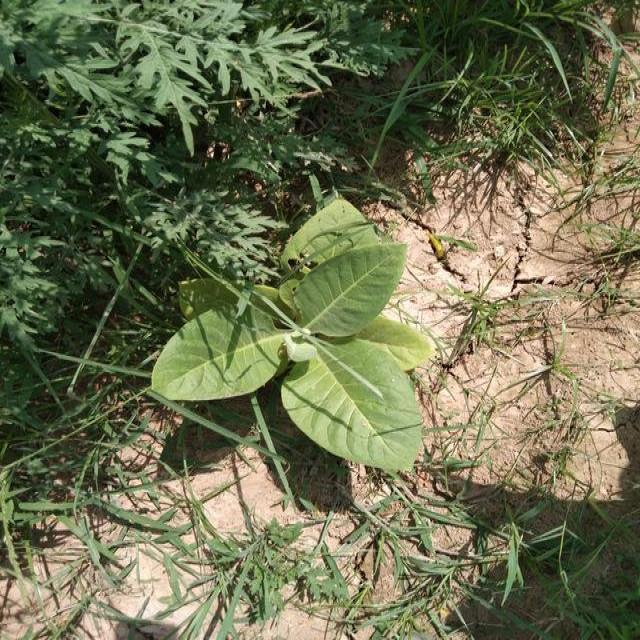crop: (160, 202, 427, 472)
